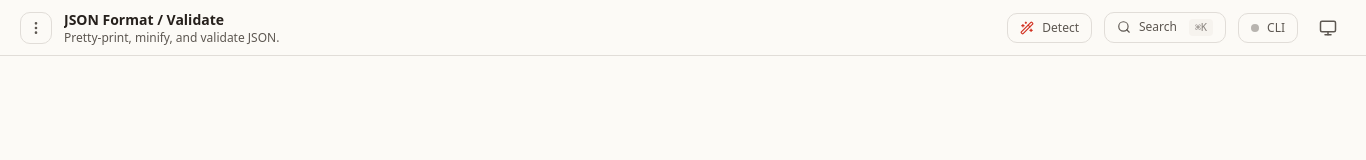
Test: TopBar › offers Unpin when the active tool is already pinned
Click the button named "Tool actions" at (36, 28), box [20, 12, 52, 44]
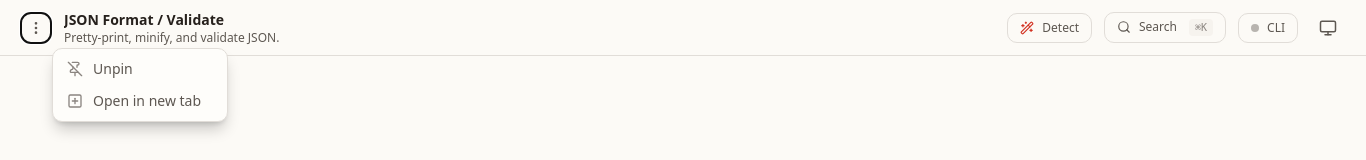
Result: the menu item "Unpin" is shown at [57, 52, 223, 84]
